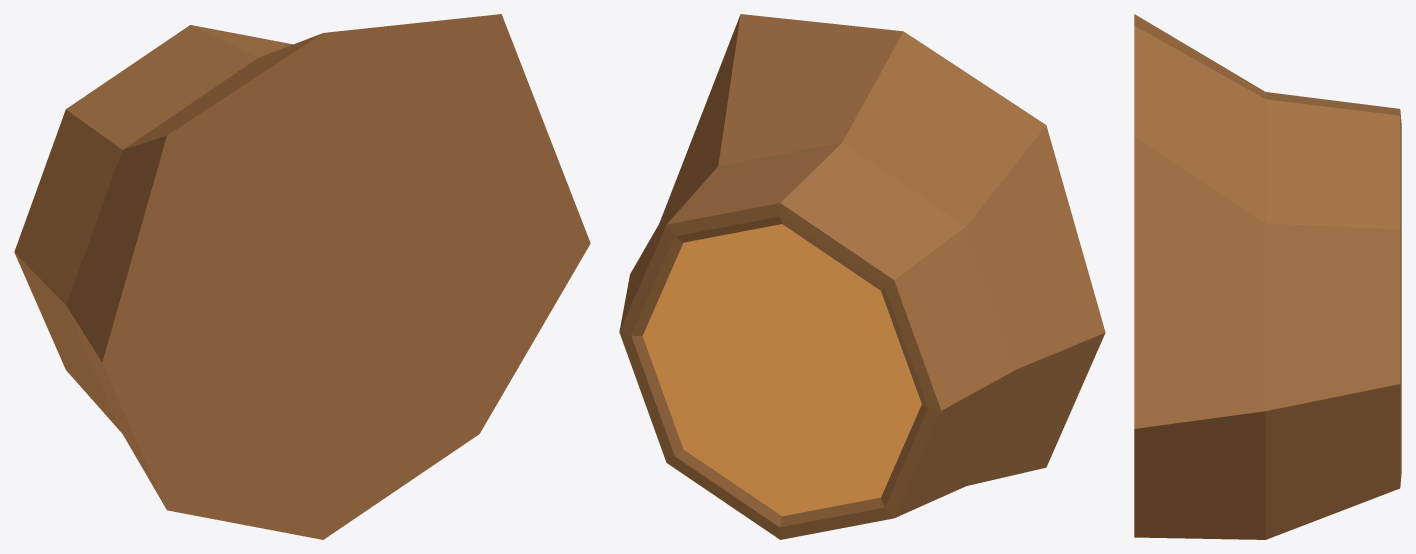
The model's file is TreeStump_1.fbx.
3 renders of one model, left to right at view 1: azimuth 30°, elevation 25°; view 2: azimuth 150°, elevation 25°; view 3: azimuth 270°, elevation 25°, orthographic. The views are drawn at different scales.
Parts seen in each view (by area): view 1: TreeStump_1; view 2: TreeStump_1; view 3: TreeStump_1.
Part boxes in pixels (<box>): TreeStump_1: <box>14,14,590,539</box>; TreeStump_1: <box>619,14,1105,539</box>; TreeStump_1: <box>1134,14,1401,539</box>.
Size of the model in its own units: 277 by 275 by 132.
